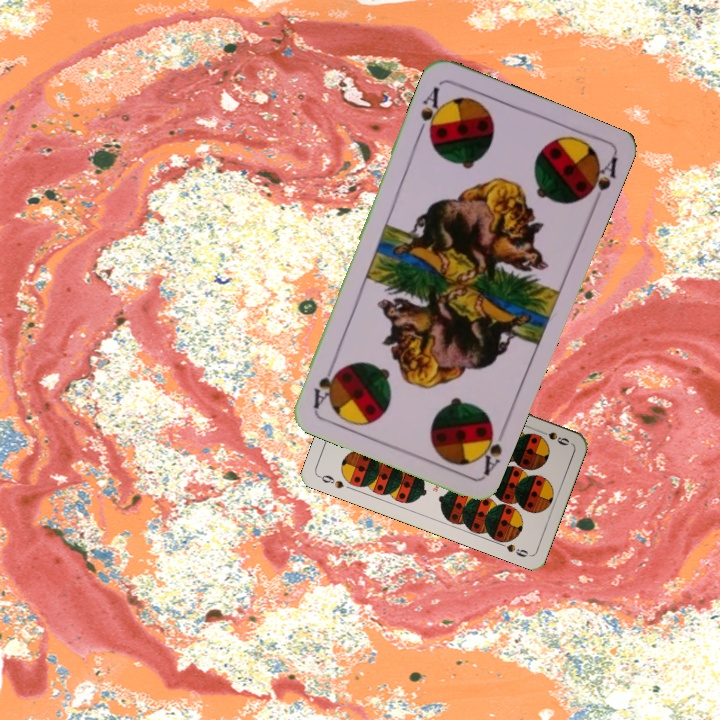S9: (533, 426, 572, 448), (315, 471, 346, 491)
SA: (471, 417, 505, 479), (414, 83, 446, 141)
